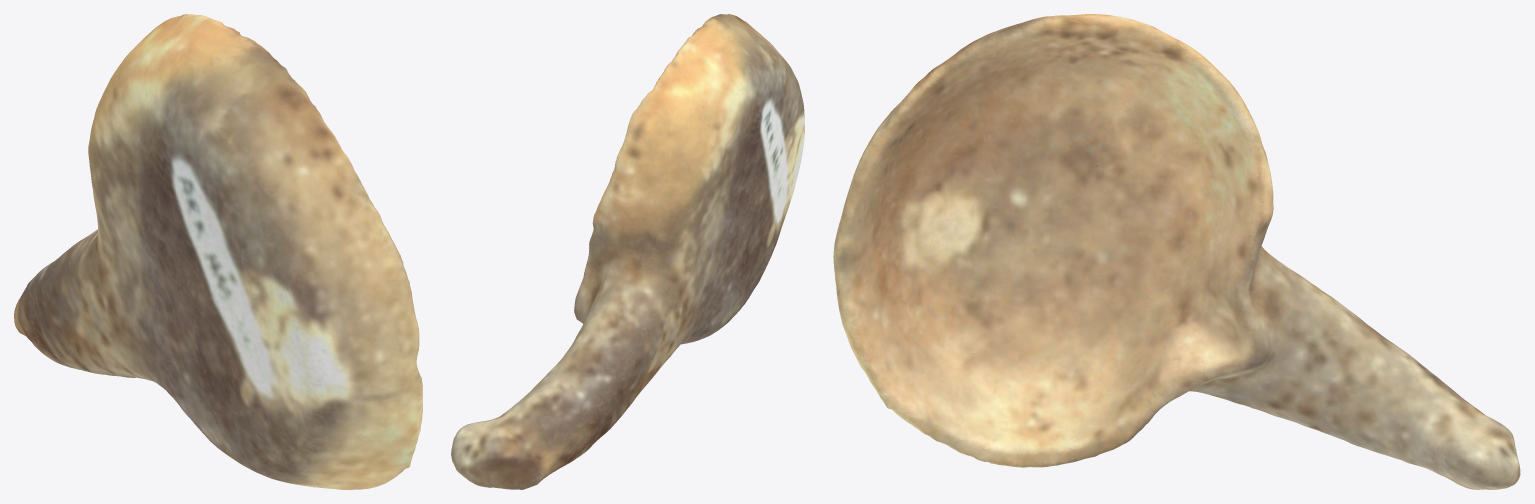
File: Ark_HM_110_HI.glb
3 renders of one model, left to right at view 1: azimuth 30°, elevation 25°; view 2: azimuth 150°, elevation 25°; view 3: azimuth 270°, elevation 25°, orthographic. The views are drawn at different scales.
Size of the model in its own units: 0.1516 by 0.3569 by 0.5009.
1 material, 1 textured.
